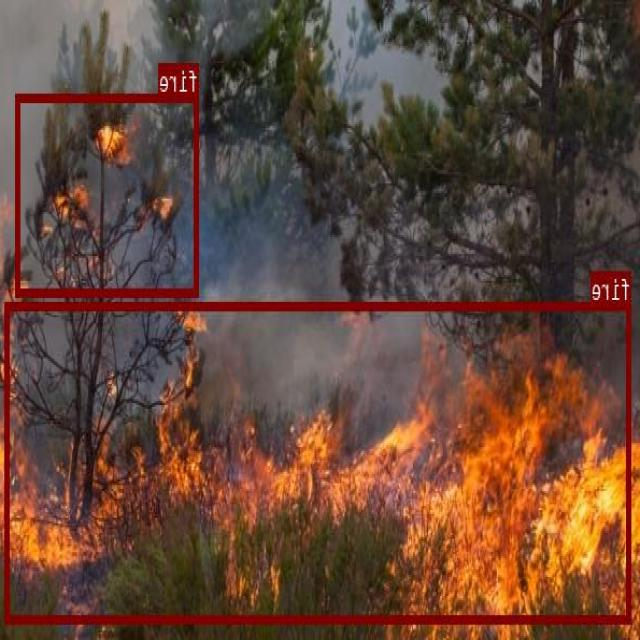fire: (6, 301, 632, 621), (17, 93, 199, 296)
